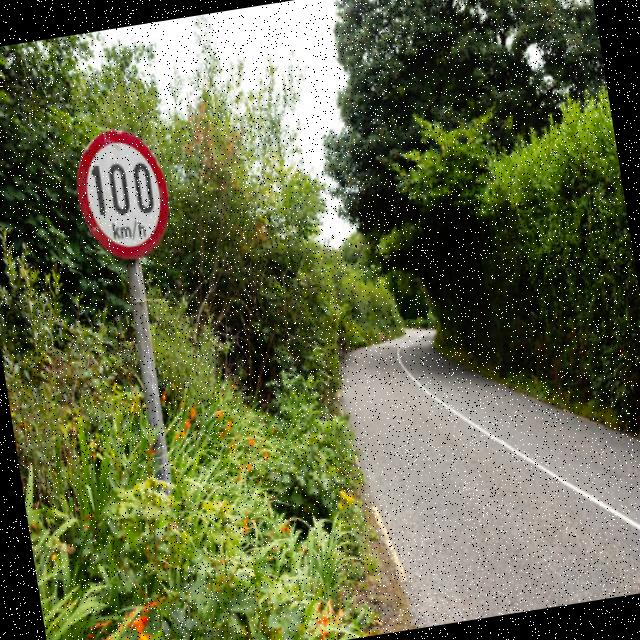speed_limit_100: (63, 116, 180, 269)
